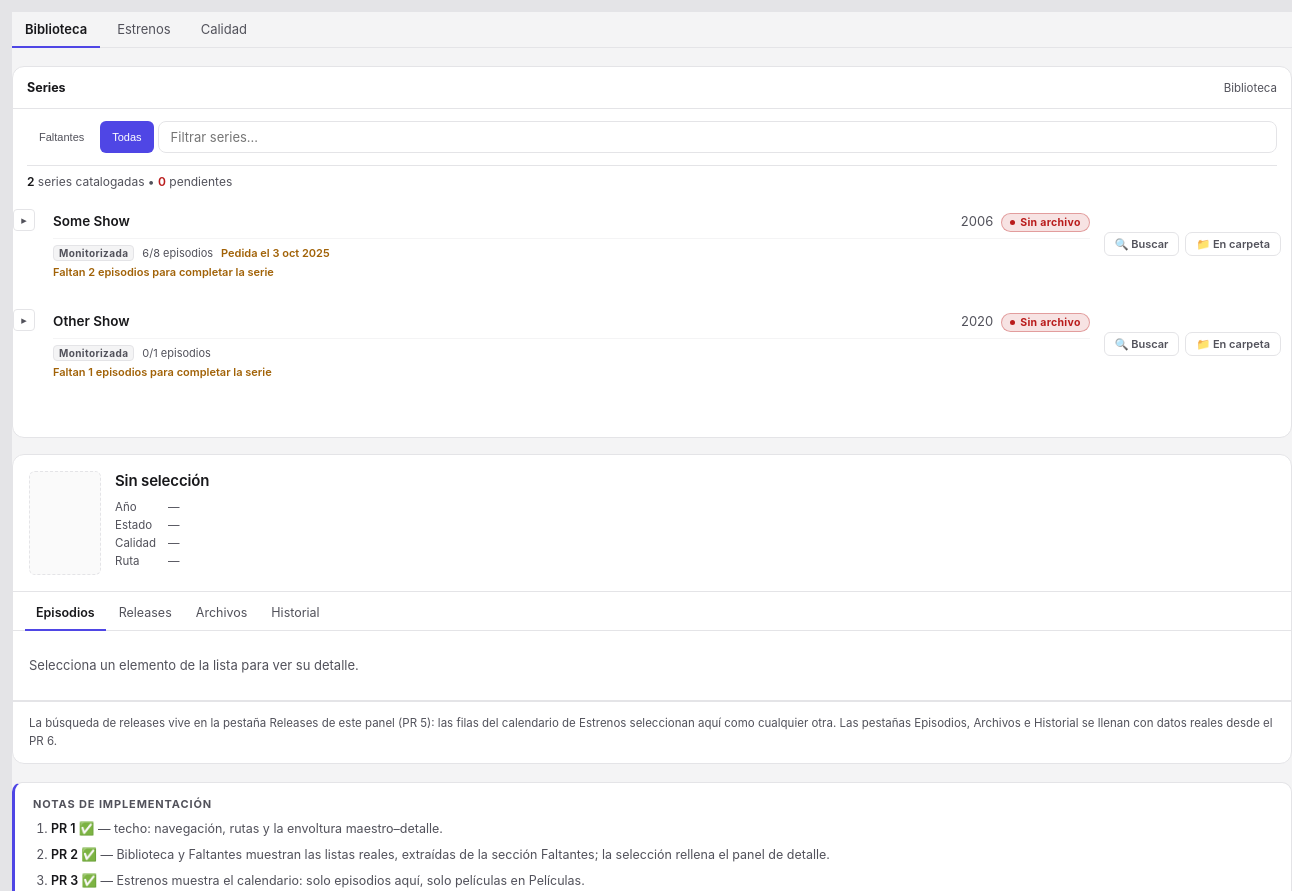
Scenario: Series · the Episodios tab › lands on Episodios when a series row is selected
Expected: the text "Some Show" is shown, [53,212,130,228]
…and the switch: from anywhere, a row selection lands on the episodes.
What coordinates should you click on to do the following:
click the button "Releases"
I would click on:
 (145, 614)
Its box is [108,596,183,631].
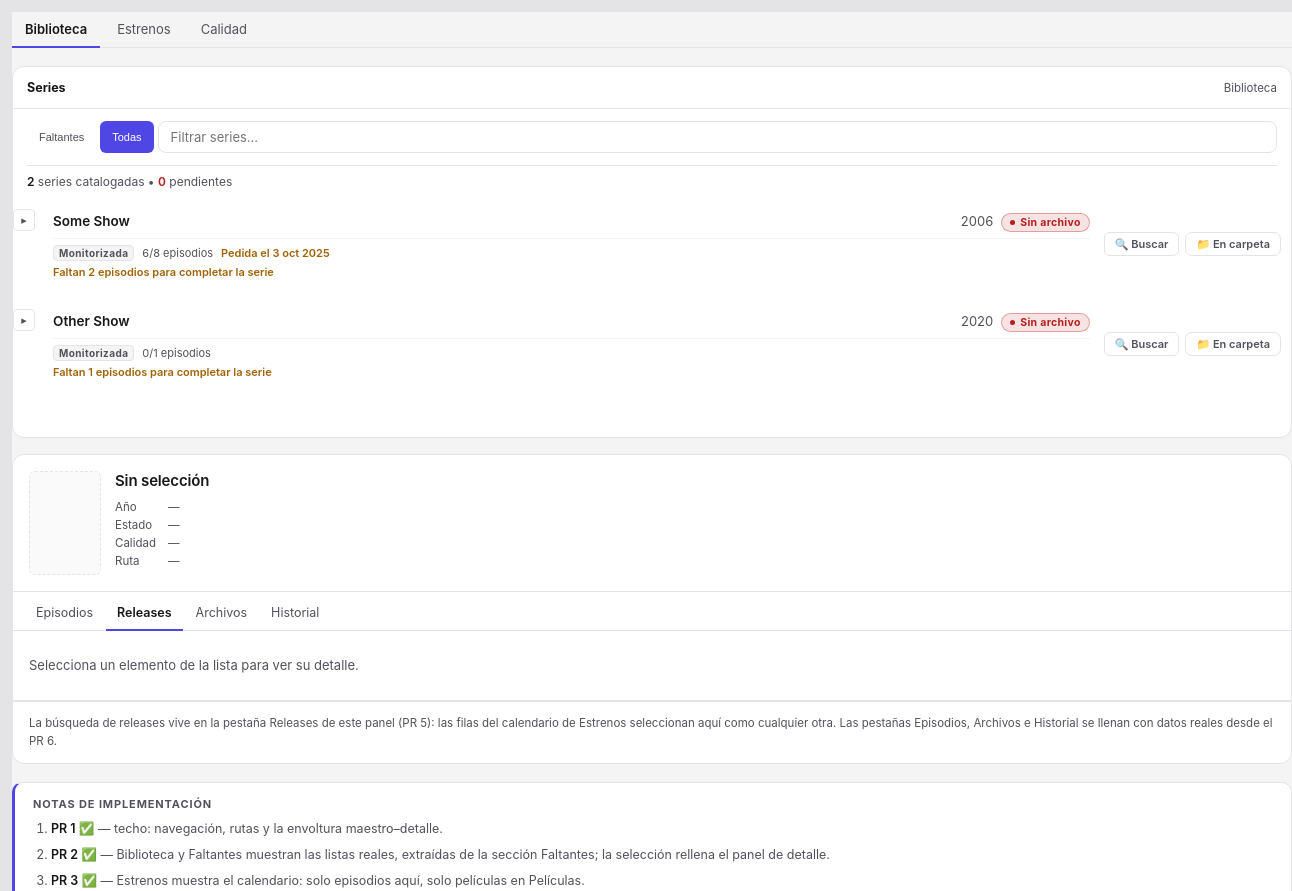
What coordinates should you click on to do the following:
click the element with class "sec-row" that starts with "Some Show"
I would click on:
 (667, 244)
Its box is [43,199,1291,289].
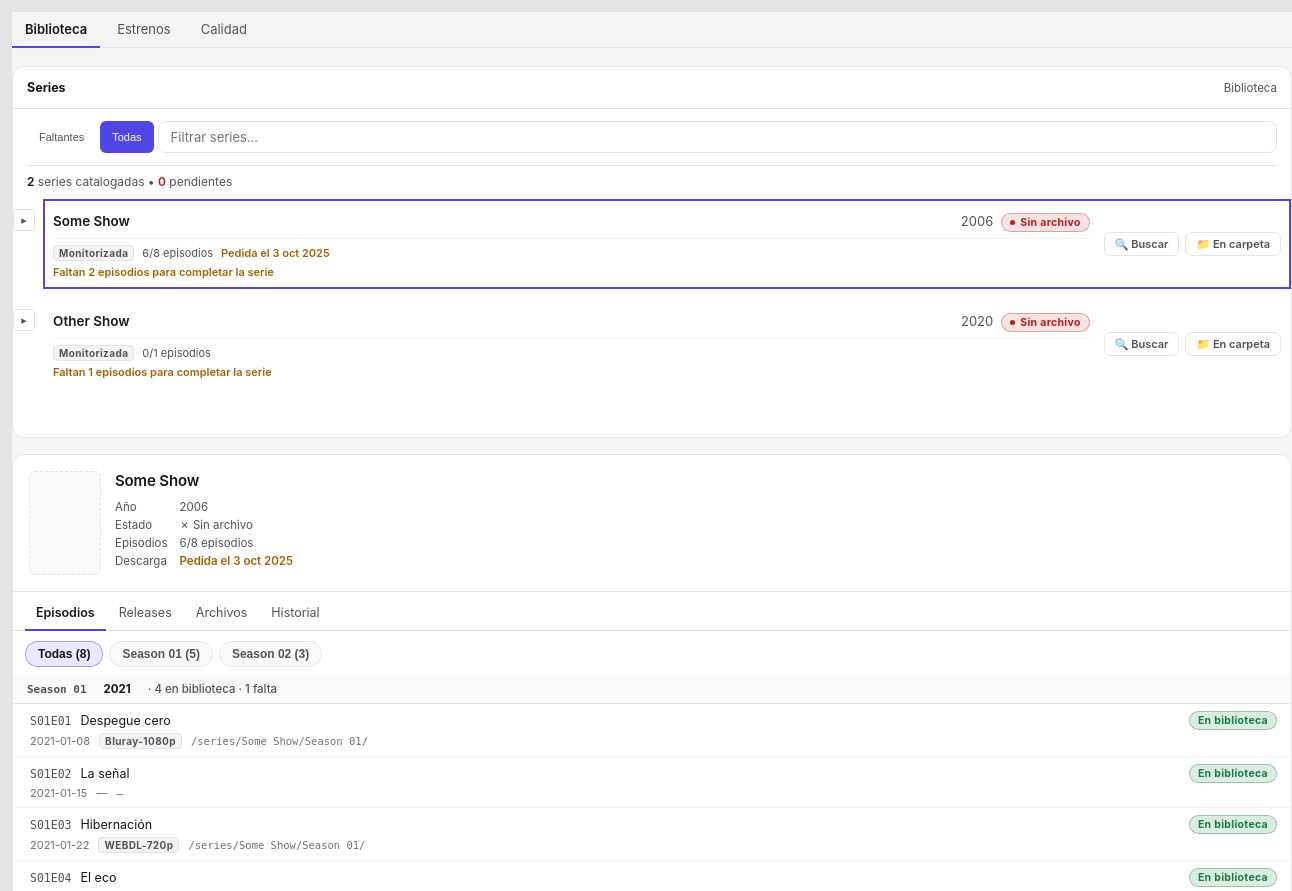
Expected: the text "S01E01" is shown, [30,714,72,728]
Expected: the text "Episodios" is shown, [115,536,168,550]
